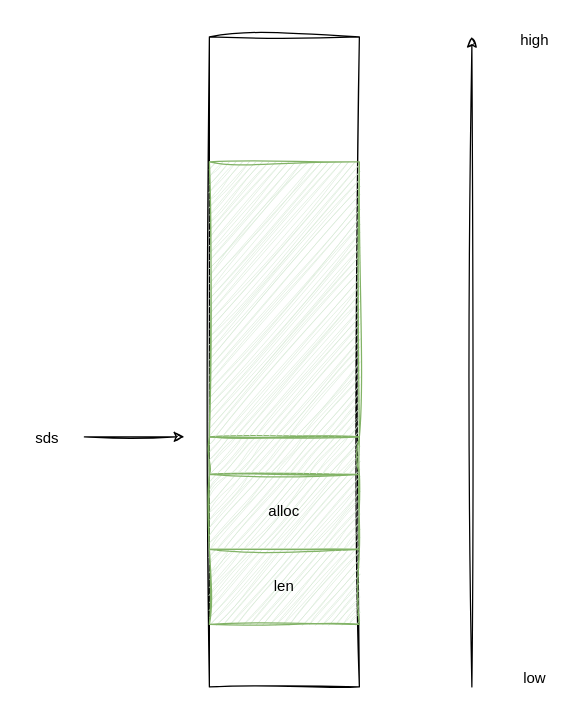
Some shapes in this 586 by 719 pixel diagram are drawn without their labels. Here are the shapes that lost their labels. From the top down, the centre of each, then its label:
At point 283,299: "buf".
At point 283,455: "flags".
